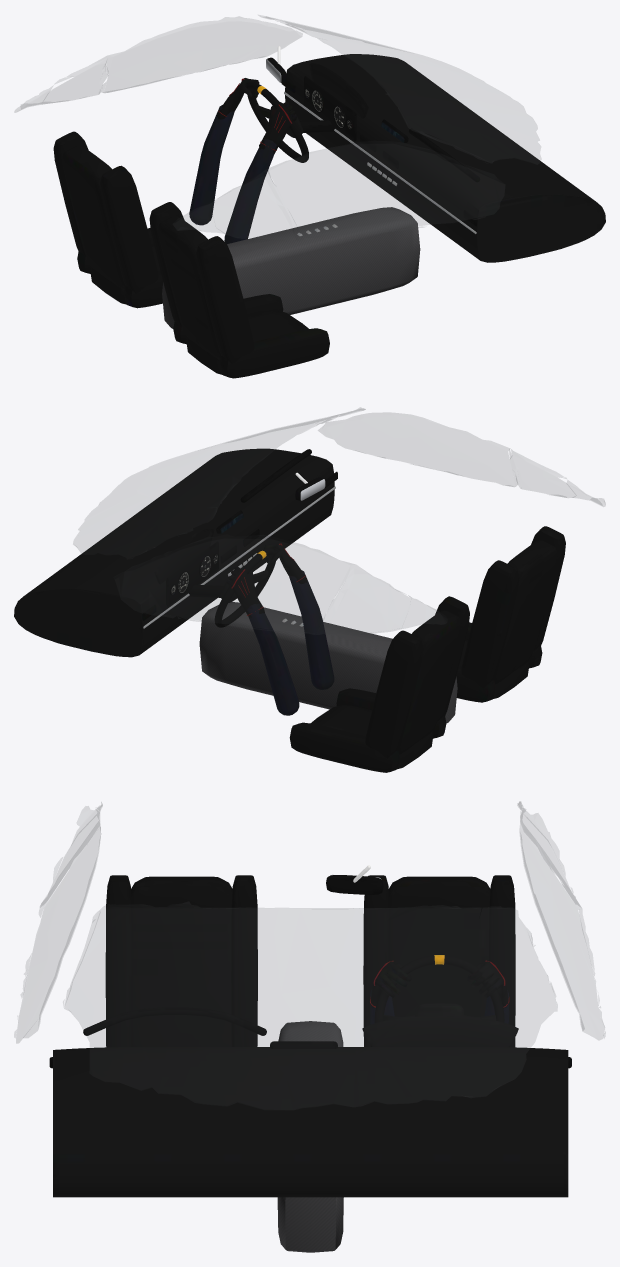
File: mz_monza_cockpit_low.glb
3 renders of one model, top to bottom at view 1: azimuth 30°, elevation 25°; view 2: azimuth 150°, elevation 25°; view 3: azimuth 270°, elevation 25°, orthographic. The views are drawn at different scales.
Parts seen in each view (by area): view 1: cockpit_shell, window_R, cabin_glass, window_L, hands, steering_wheel; view 2: cockpit_shell, window_L, cabin_glass, window_R, hands, steering_wheel; view 3: cockpit_shell, cabin_glass, window_L, window_R, hands, steering_wheel.
Part boxes in pixels (left/top/right/bottom): cockpit_shell: left=53, top=46, right=605, bottom=378; window_R: left=211, top=130, right=504, bottom=240; cabin_glass: left=15, top=15, right=540, bottom=239; window_L: left=42, top=17, right=302, bottom=103; hands: left=189, top=78, right=296, bottom=243; steering_wheel: left=247, top=83, right=308, bottom=162; cockpit_shell: left=14, top=448, right=565, bottom=772; window_L: left=114, top=529, right=410, bottom=634; cabin_glass: left=73, top=409, right=605, bottom=634; window_R: left=318, top=408, right=575, bottom=497; hands: left=226, top=542, right=334, bottom=715; steering_wheel: left=214, top=548, right=275, bottom=627; cockpit_shell: left=49, top=865, right=571, bottom=1252; cabin_glass: left=14, top=801, right=605, bottom=1109; window_L: left=520, top=811, right=604, bottom=1039; window_R: left=16, top=810, right=100, bottom=1042; hands: left=370, top=960, right=509, bottom=1024; steering_wheel: left=374, top=955, right=504, bottom=1023.
Size of the model in its own units: 1.9 by 1.05 by 1.75.
5 materials, 3 textured.
